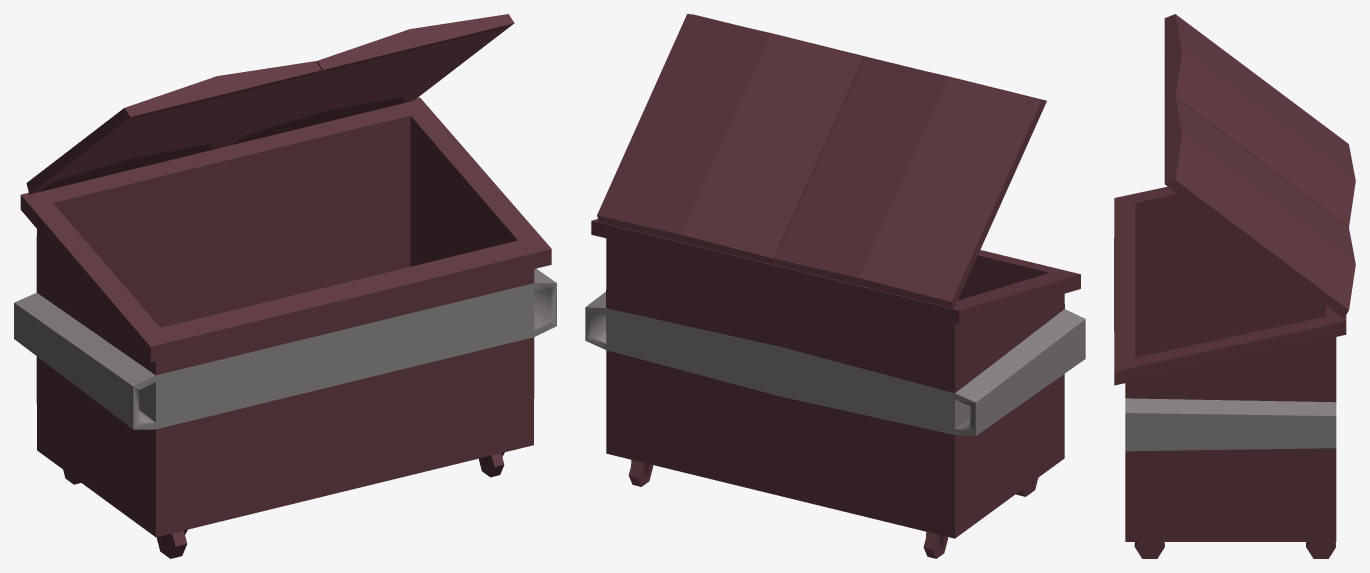
File: dumpster-lids.fbx
The picture shows the model from 3 angles, left to right: view 1: azimuth 30°, elevation 25°; view 2: azimuth 150°, elevation 25°; view 3: azimuth 270°, elevation 25°; orthographic projection. The views are drawn at different scales.
Parts seen in each view (by area): view 1: dumpster-lids-base, dumpster-lid_L, dumpster-lid_B; view 2: dumpster-lids-base, dumpster-lid_L, dumpster-lid_B; view 3: dumpster-lids-base, dumpster-lid_B, dumpster-lid_L.
Part boxes in pixels (x1,y1,x2,y2): dumpster-lids-base: [14, 97, 556, 558]; dumpster-lid_L: [26, 61, 321, 194]; dumpster-lid_B: [222, 14, 514, 147]; dumpster-lids-base: [585, 219, 1085, 558]; dumpster-lid_L: [775, 57, 1046, 308]; dumpster-lid_B: [597, 14, 868, 265]; dumpster-lids-base: [1114, 186, 1346, 558]; dumpster-lid_B: [1164, 97, 1355, 318]; dumpster-lid_L: [1164, 14, 1355, 227].
Size of the model in its own units: 2.05 by 2.08 by 1.14.
